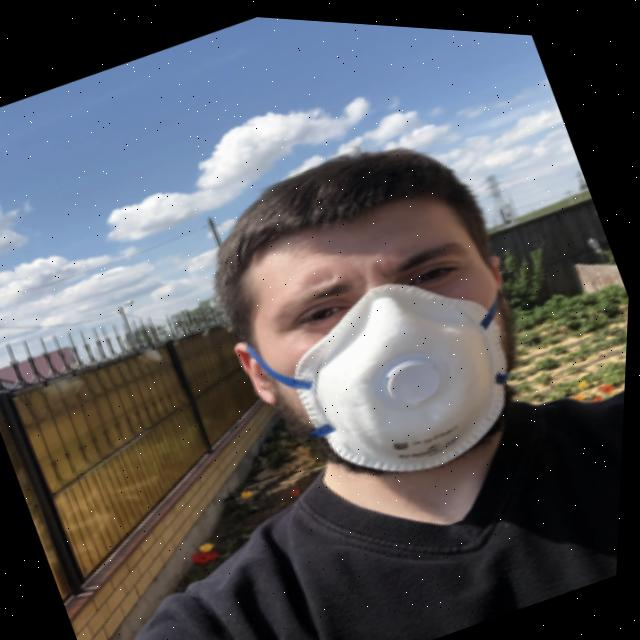Mask: (226, 218, 577, 525)
